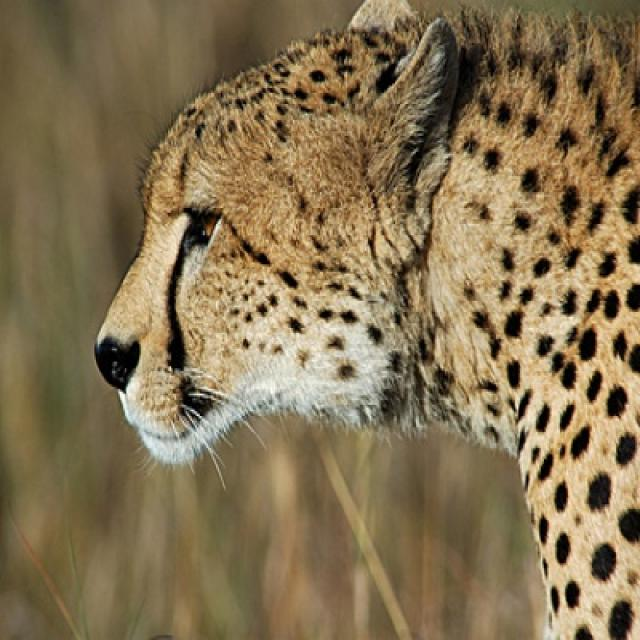Cheetah: (93, 13, 638, 638)
